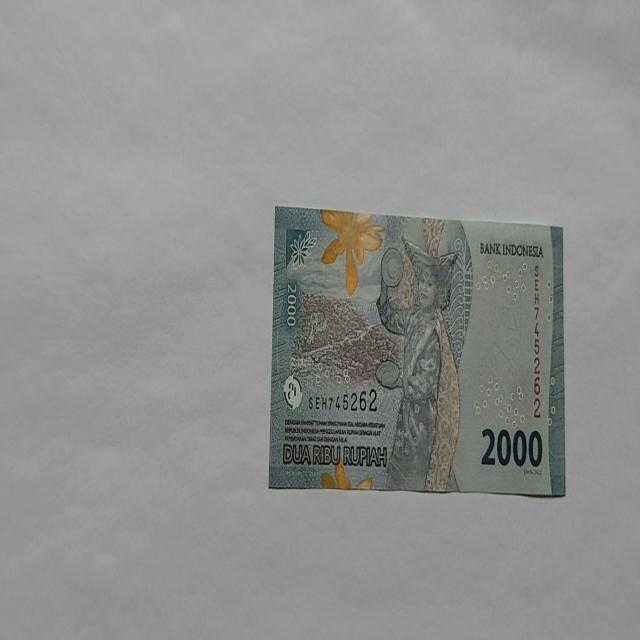dua ribu rupiah: (268, 207, 566, 496), (374, 236, 462, 492), (320, 208, 384, 297)
